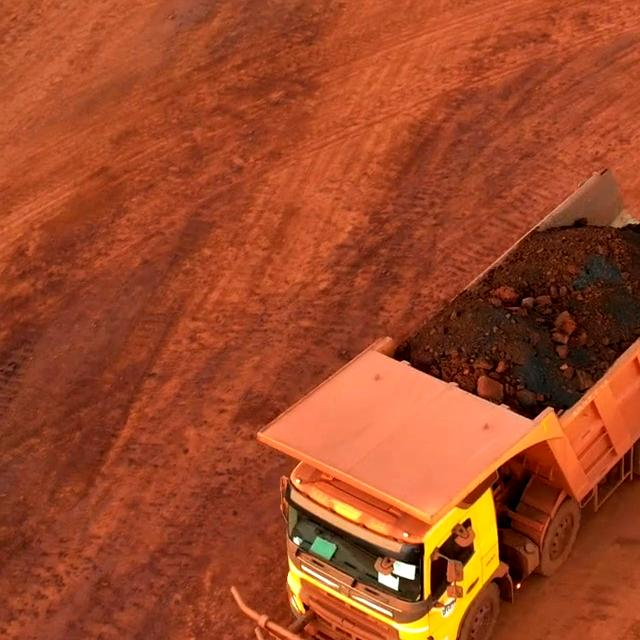Dumper truck: (288, 379, 504, 640), (363, 233, 640, 416)
